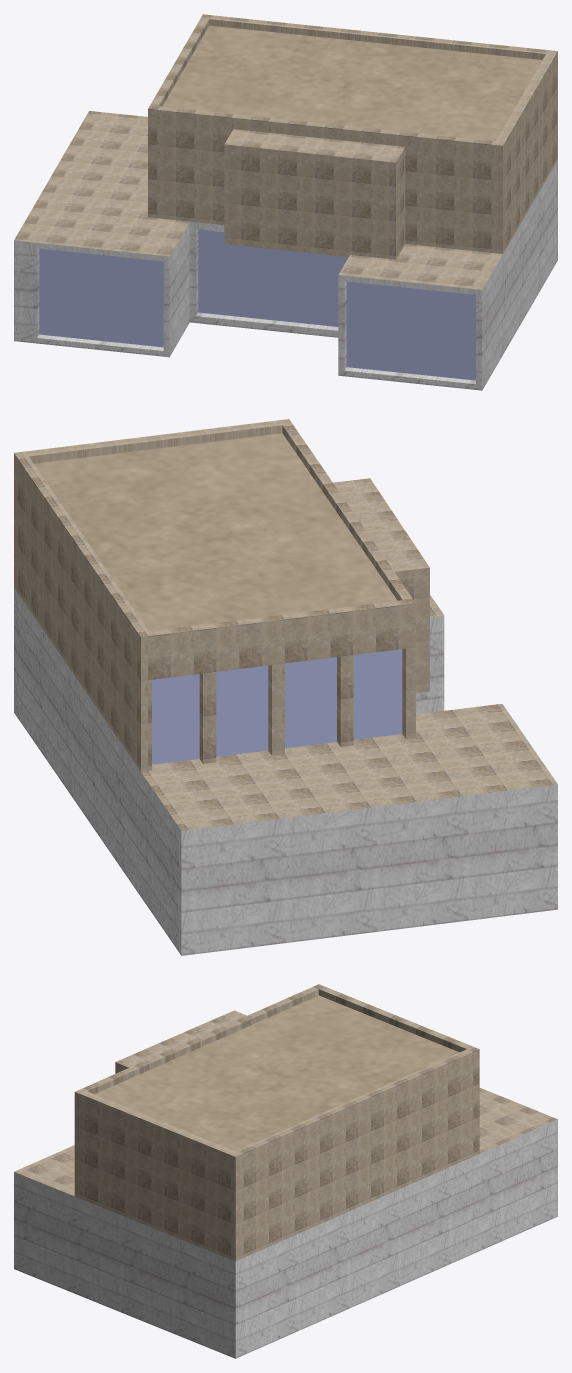
3 views of the same model, one above another, from view 1: azimuth 30°, elevation 25°; view 2: azimuth 150°, elevation 25°; view 3: azimuth 270°, elevation 25° (orthographic). The views are drawn at different scales.
Parts seen in each view (by area): view 1: Cube.003; view 2: Cube.003; view 3: Cube.003.
Part boxes in pixels (x1,y1,x2,y2): Cube.003: (14,14,557,390); Cube.003: (14,419,557,955); Cube.003: (14,984,557,1358).
Size of the model in its own units: 28.07 by 11.42 by 27.9.
Materials: 4 (3 with a texture image).
